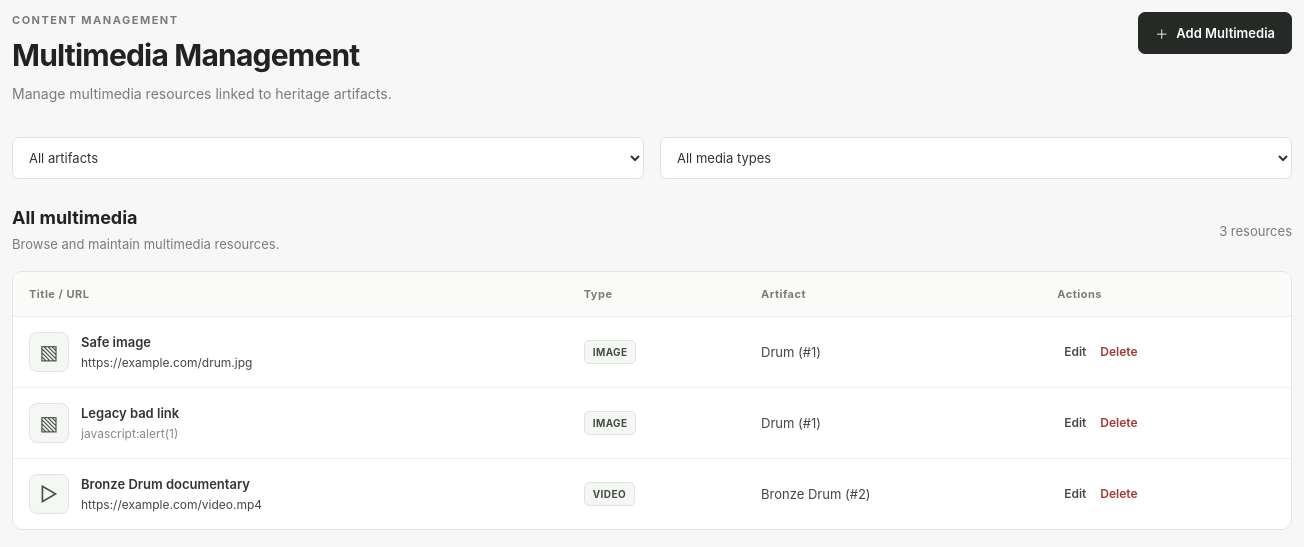
Scenario: MultimediaPage — CRUD and filters › cancels or confirms deletion and refreshes only after confirmation
The width and height of the screenshot is (1304, 547).
Click the button "Delete" in the row of "Legacy bad link": (1119, 423) left=1093, top=410, right=1145, bottom=435
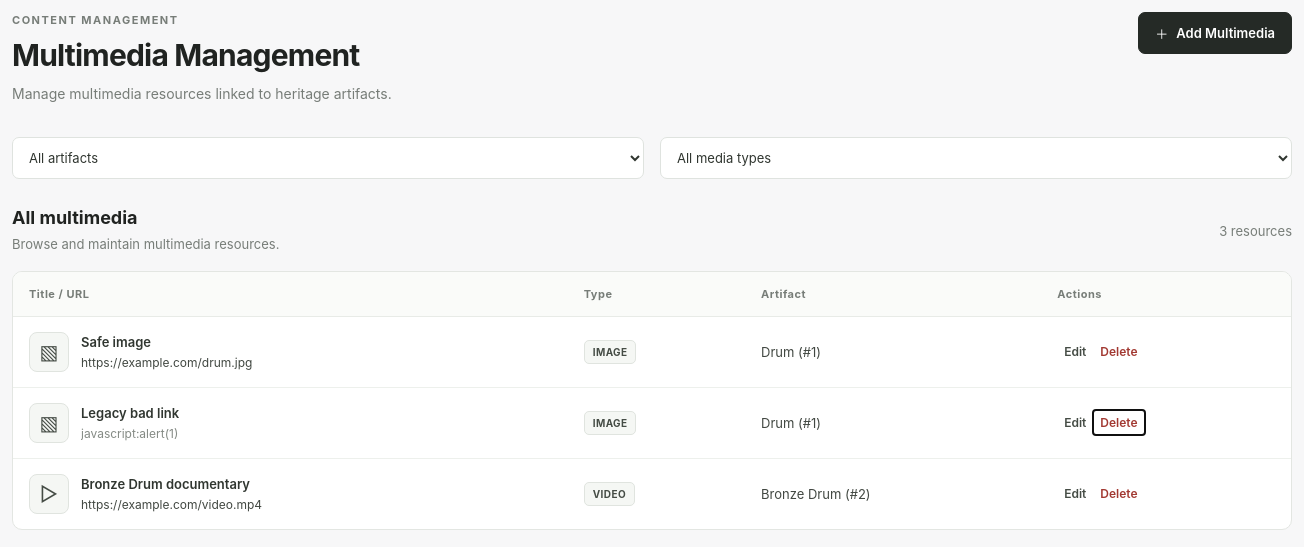
Click the button "Delete" in the row of "Legacy bad link": (1119, 423) left=1093, top=410, right=1145, bottom=435
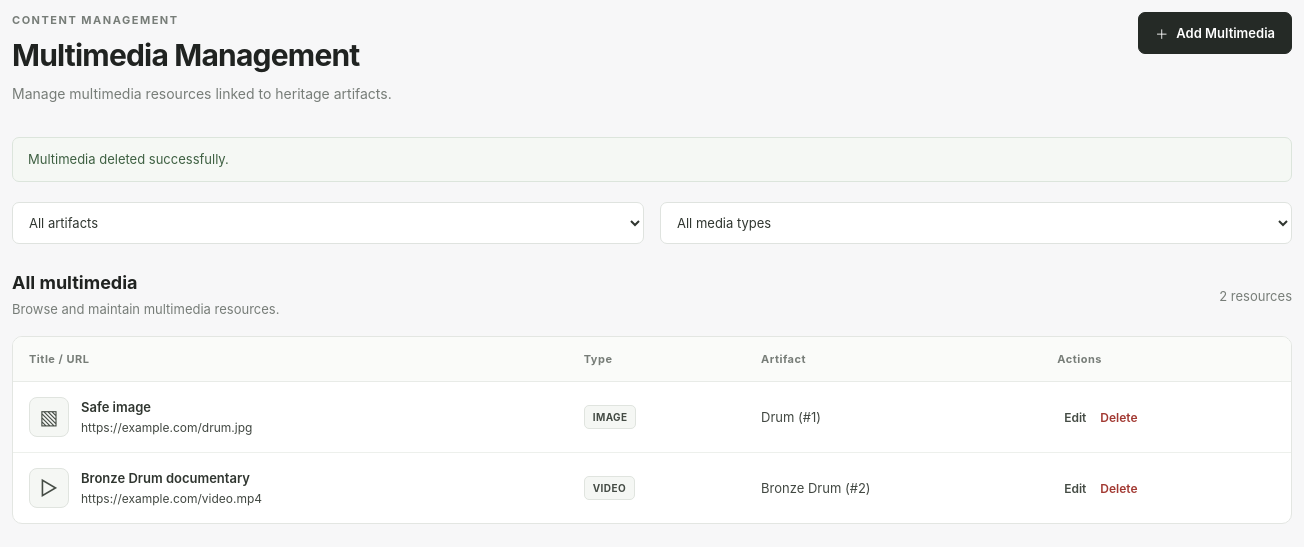
Check: the text "Multimedia deleted successfully." is shown, box left=12, top=137, right=1292, bottom=182
Check: the text "Legacy bad link" is gone
